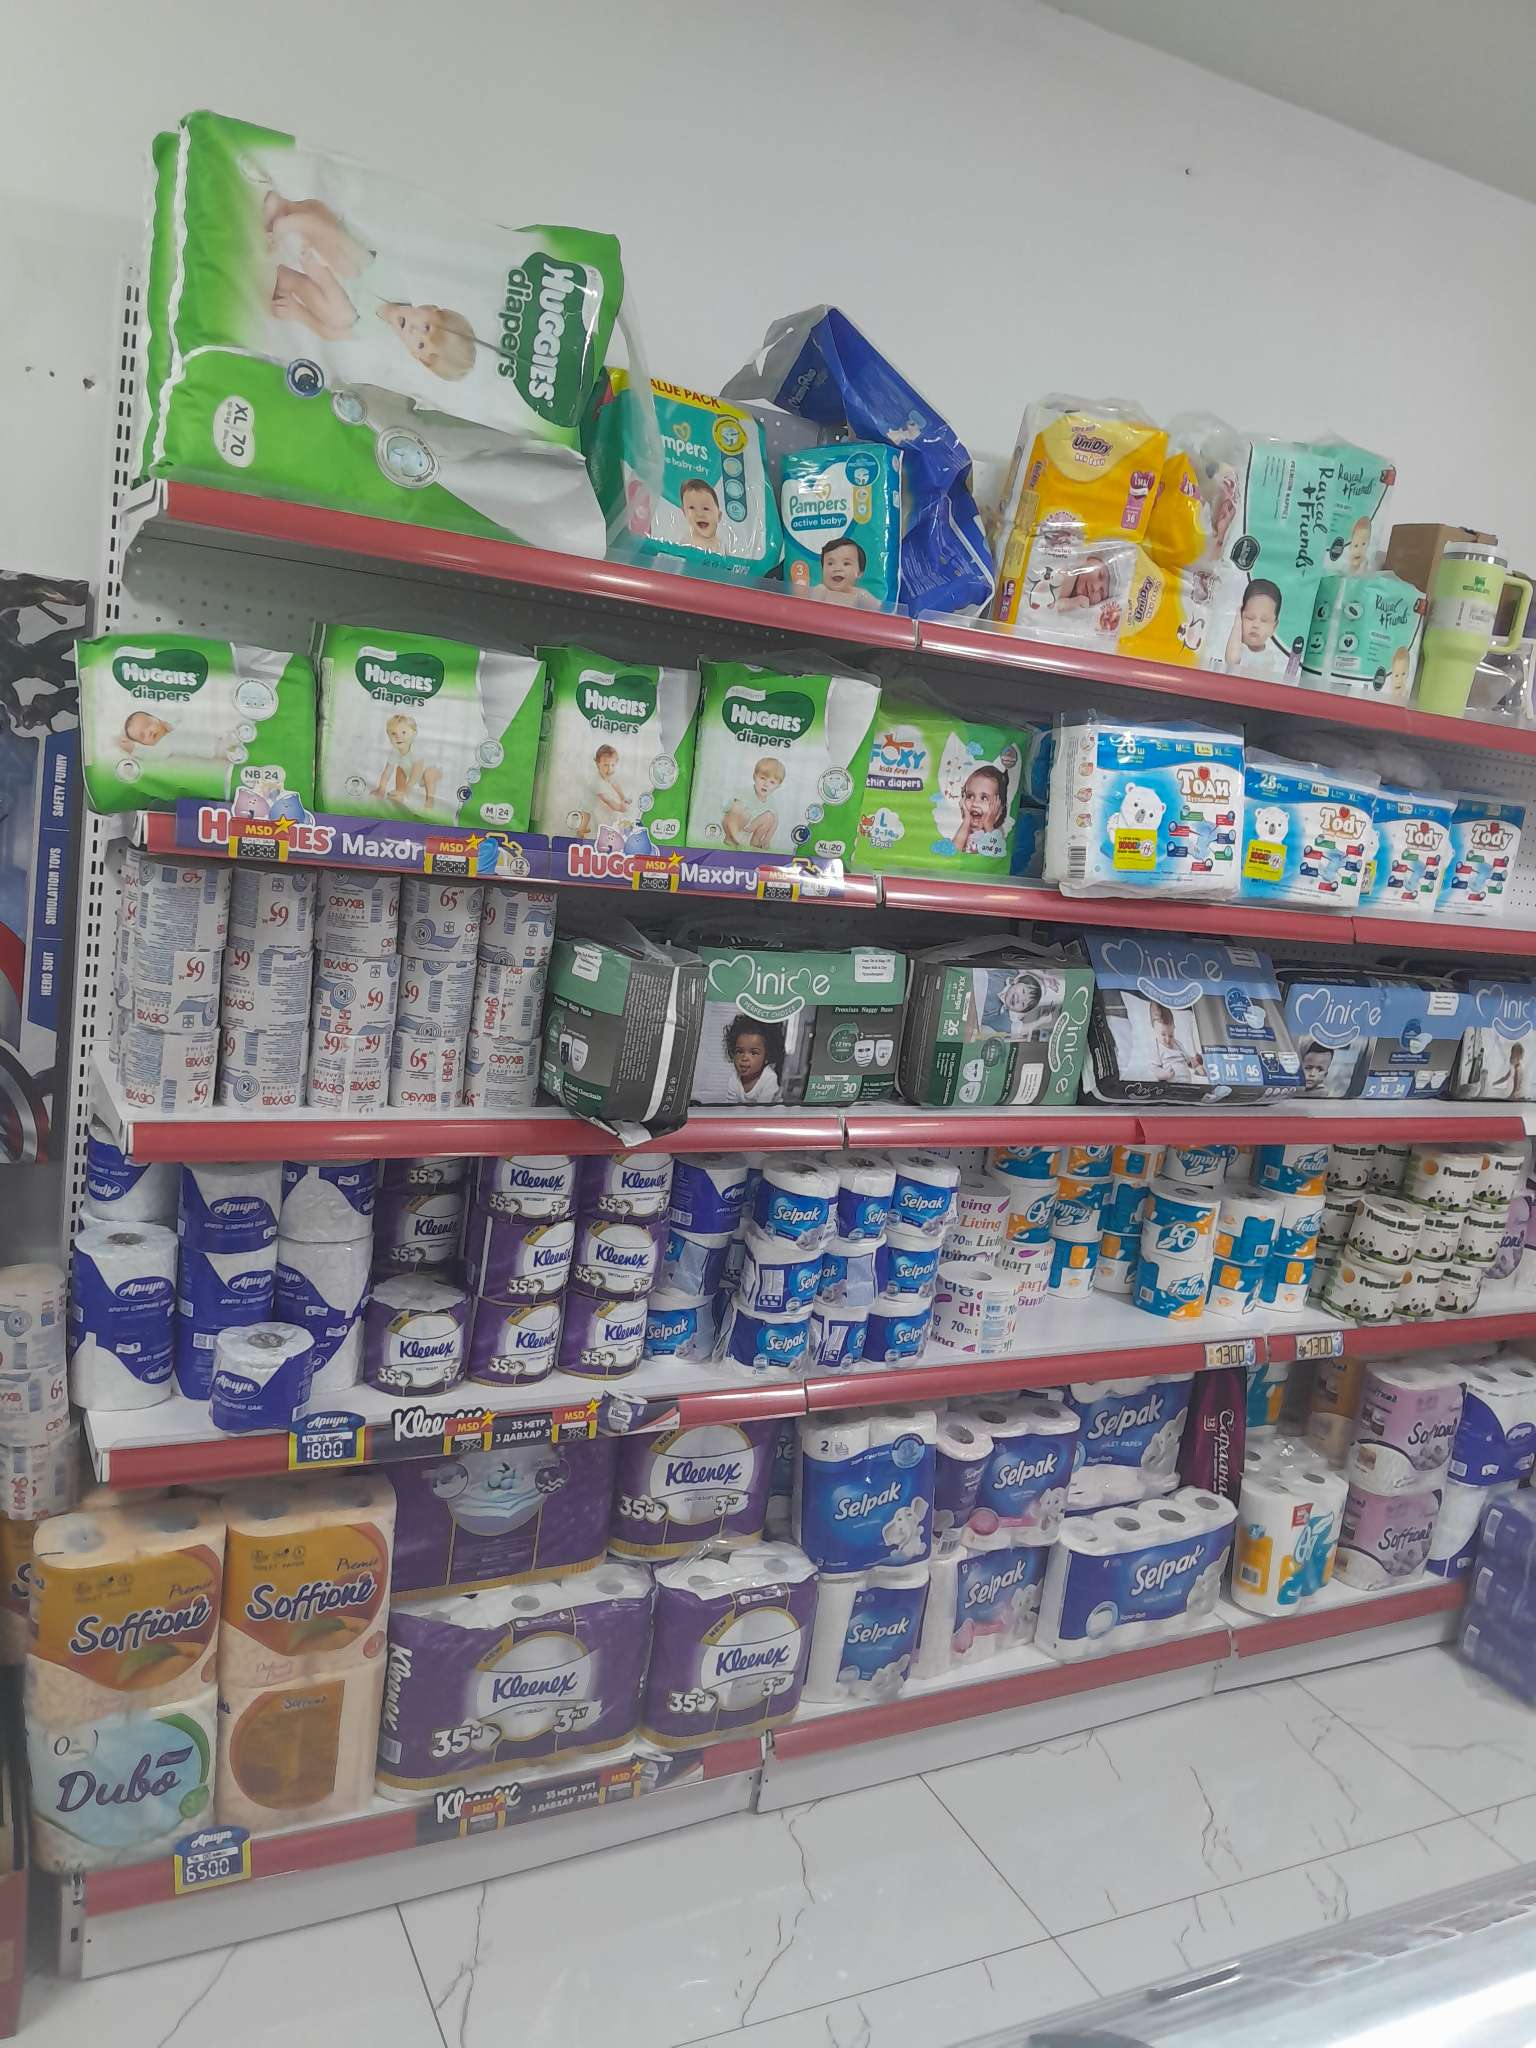ariun: (213, 1326, 316, 1427), (65, 1240, 177, 1329), (73, 1127, 168, 1227), (71, 1337, 173, 1427), (184, 1169, 281, 1259), (287, 1161, 376, 1248), (181, 1263, 279, 1335), (671, 1155, 752, 1235), (289, 1256, 374, 1327), (324, 1332, 361, 1385)
divo: (27, 1729, 218, 1874)
foxy: (862, 684, 1028, 879)
huggies: (147, 126, 603, 537), (328, 627, 542, 824), (84, 635, 311, 821), (707, 658, 842, 856), (557, 643, 687, 845)
kleenex bathroom paper: (395, 1614, 644, 1772), (387, 1463, 605, 1569), (665, 1567, 808, 1729), (629, 1430, 768, 1553), (371, 1292, 471, 1387), (460, 1213, 574, 1295), (382, 1192, 461, 1279), (566, 1300, 649, 1376), (587, 1153, 671, 1219), (481, 1156, 571, 1216), (584, 1221, 660, 1292), (395, 1161, 473, 1187)
living: (931, 1268, 1021, 1363), (945, 1179, 1015, 1271)
minime: (702, 934, 905, 1105), (908, 940, 1099, 1116), (1102, 937, 1289, 1090), (553, 927, 694, 1130), (1291, 968, 1463, 1101), (1468, 976, 1533, 1092)
obuhiv: (127, 864, 229, 948), (127, 950, 218, 1032), (223, 951, 313, 1034), (319, 869, 408, 951), (127, 1039, 215, 1116), (318, 958, 397, 1040), (236, 876, 318, 951), (218, 1035, 295, 1113), (405, 955, 471, 1034), (413, 877, 478, 958), (484, 884, 549, 964), (473, 1035, 541, 1111), (311, 1040, 390, 1101), (482, 968, 549, 1040), (392, 1045, 463, 1111)
pampers: (624, 379, 787, 589), (791, 427, 916, 611)
panda: (1328, 1255, 1407, 1324), (1352, 1200, 1423, 1268), (1413, 1151, 1483, 1219), (1426, 1221, 1504, 1268), (1433, 1269, 1483, 1314), (1334, 1147, 1379, 1195), (1488, 1158, 1523, 1208), (1409, 1271, 1436, 1314)
rascal friends: (1323, 572, 1426, 706), (1359, 414, 1475, 416)
selpak: (792, 1419, 937, 1569), (1070, 1522, 1241, 1637), (812, 1580, 928, 1708), (1071, 1387, 1184, 1506), (941, 1413, 1058, 1517), (939, 1555, 1049, 1661), (745, 1238, 824, 1319), (755, 1163, 829, 1247), (897, 1150, 954, 1255), (723, 1316, 820, 1374), (837, 1151, 895, 1247), (665, 1229, 734, 1293), (652, 1305, 720, 1359), (821, 1245, 878, 1300), (889, 1306, 936, 1359), (829, 1306, 870, 1355), (887, 1256, 941, 1287)
soffione: (32, 1534, 218, 1716), (236, 1501, 386, 1674), (237, 1685, 369, 1809), (1373, 1358, 1459, 1480), (1347, 1488, 1446, 1588)
tody: (1052, 718, 1244, 897), (1249, 761, 1378, 905), (1457, 782, 1530, 922), (1386, 789, 1454, 924)
ud: (1242, 1474, 1342, 1613), (1146, 1190, 1217, 1266), (1136, 1263, 1213, 1322), (1062, 1172, 1113, 1255), (1147, 1145, 1238, 1190), (1270, 1185, 1318, 1263), (1010, 1176, 1054, 1247), (1226, 1195, 1276, 1256), (1271, 1145, 1329, 1193), (1058, 1245, 1107, 1300), (1220, 1266, 1267, 1313), (1271, 1263, 1315, 1308)
unidry: (1229, 440, 1336, 682), (1029, 408, 1136, 647), (1141, 418, 1229, 664)
